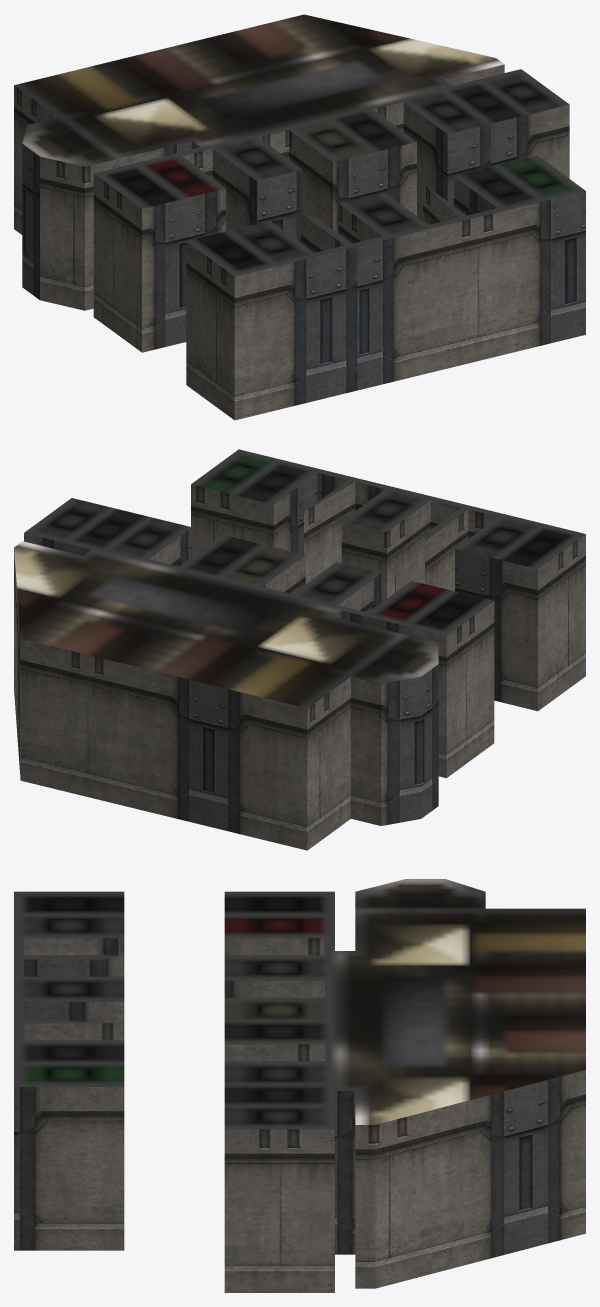
File: BuildingSystem-03-Advance-03-Heavy-3-43-03.glb
The picture shows the model from 3 angles, top to bottom: view 1: azimuth 30°, elevation 25°; view 2: azimuth 150°, elevation 25°; view 3: azimuth 270°, elevation 25°; orthographic projection. The views are drawn at different scales.
Parts seen in each view (by area): view 1: buildings/saxarba/SMV_Buildings/BuildingSystem-03-Advance-03; view 2: buildings/saxarba/SMV_Buildings/BuildingSystem-03-Advance-03; view 3: buildings/saxarba/SMV_Buildings/BuildingSystem-03-Advance-03.
Boxes of the visible parts, box(x1,y1,x2,y2) form: buildings/saxarba/SMV_Buildings/BuildingSystem-03-Advance-03: box(14, 14, 585, 420); buildings/saxarba/SMV_Buildings/BuildingSystem-03-Advance-03: box(14, 449, 585, 850); buildings/saxarba/SMV_Buildings/BuildingSystem-03-Advance-03: box(14, 879, 585, 1292).
Bounding box in the file's own units: 59 × 18 × 57.
